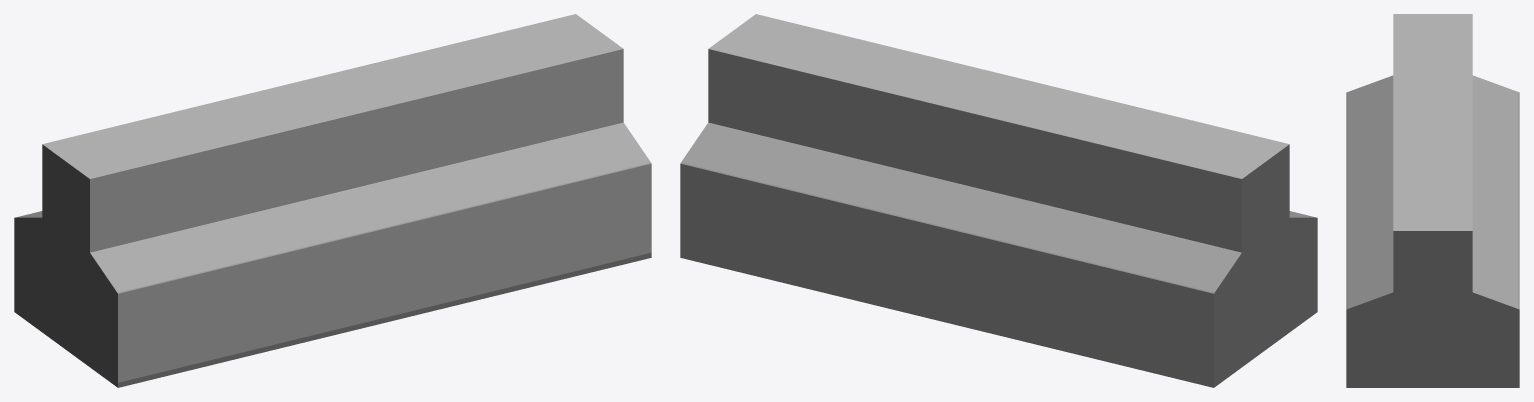
Rendered from road_divider_mesh.fbx.
3 views of the same model, side by side, from view 1: azimuth 30°, elevation 25°; view 2: azimuth 150°, elevation 25°; view 3: azimuth 270°, elevation 25° (orthographic). The views are drawn at different scales.
Visible parts, largest first — view 1: Road_divider_mesh; view 2: Road_divider_mesh; view 3: Road_divider_mesh.
Part boxes in pixels (left/top/right/bottom): Road_divider_mesh: left=14, top=14, right=651, bottom=387; Road_divider_mesh: left=680, top=14, right=1317, bottom=387; Road_divider_mesh: left=1346, top=14, right=1519, bottom=387.
Bounding box in the file's own units: 3.15 × 1.06 × 1.06.
